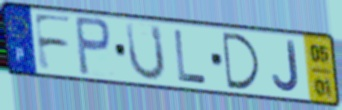D: (219, 30, 263, 92)
F: (31, 11, 75, 73)
J: (271, 39, 302, 95)
L: (172, 27, 208, 86)
P: (72, 14, 114, 78)
U: (124, 21, 168, 83)
